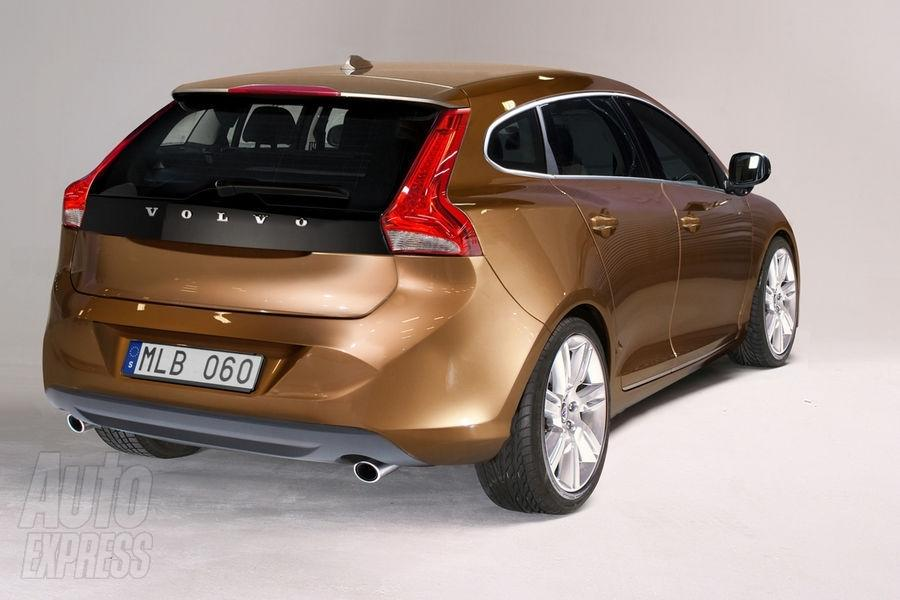Hatchback: (41, 53, 801, 515)
